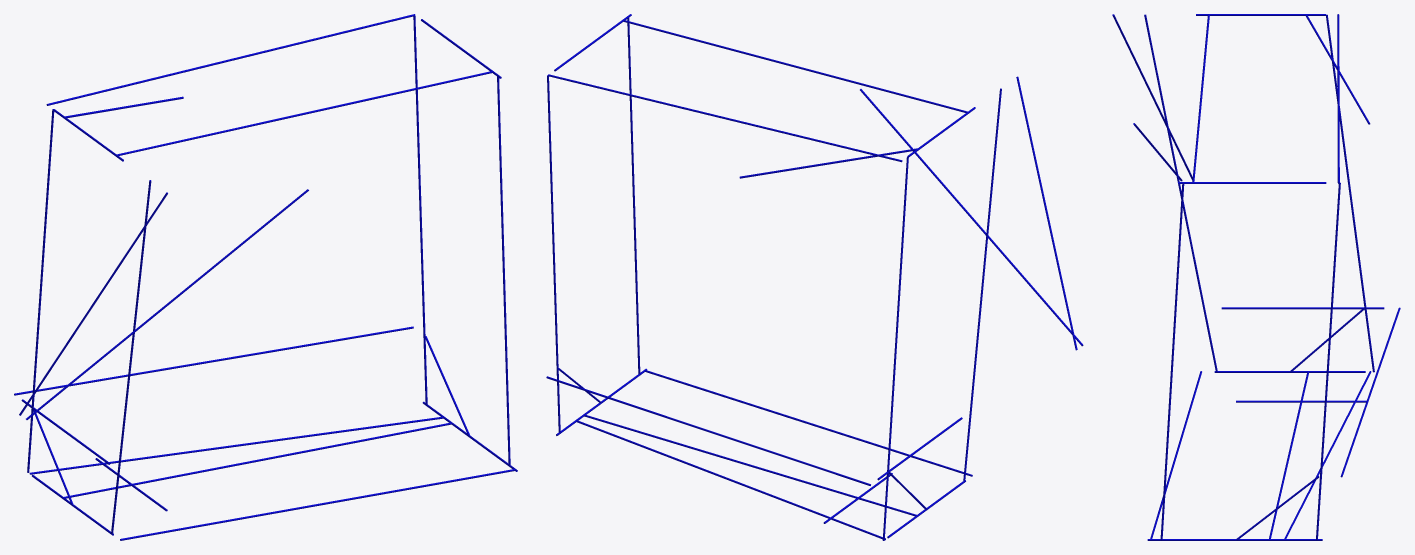
File: corrected_3d_strokes.glb
3 renders of one model, left to right at view 1: azimuth 30°, elevation 25°; view 2: azimuth 150°, elevation 25°; view 3: azimuth 270°, elevation 25°, orthographic. The views are drawn at different scales.
Visible parts, largest first — view 1: world; view 2: world; view 3: world.
Boxes of the visible parts, x1,y1,x2,y2 form: world: (14, 14, 517, 540); world: (546, 14, 1083, 540); world: (1112, 14, 1400, 540).
Bounding box in the file's own units: 9.92 × 7.66 × 5.57.
